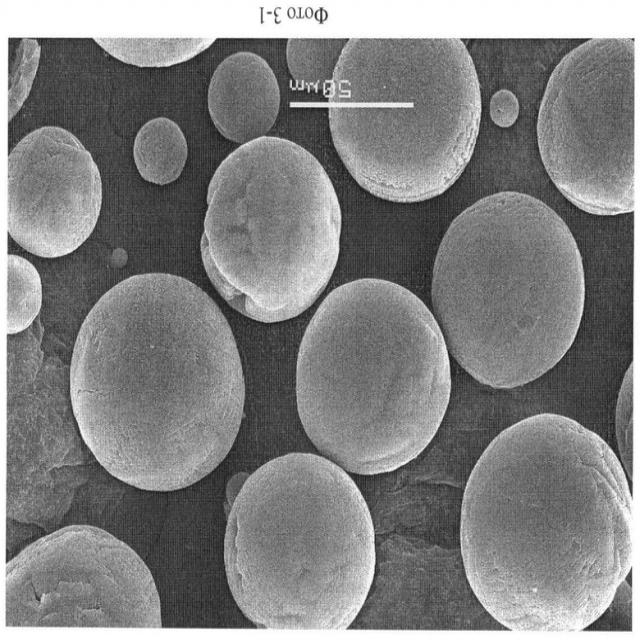cells: (68, 271, 246, 497), (457, 416, 633, 630), (293, 274, 451, 477), (429, 190, 585, 389), (222, 454, 372, 632), (200, 139, 342, 322), (327, 38, 479, 200), (534, 40, 632, 217), (8, 527, 165, 628), (0, 128, 103, 258), (208, 54, 280, 146), (0, 258, 44, 338), (134, 118, 188, 183), (489, 92, 520, 131), (113, 249, 130, 267)
